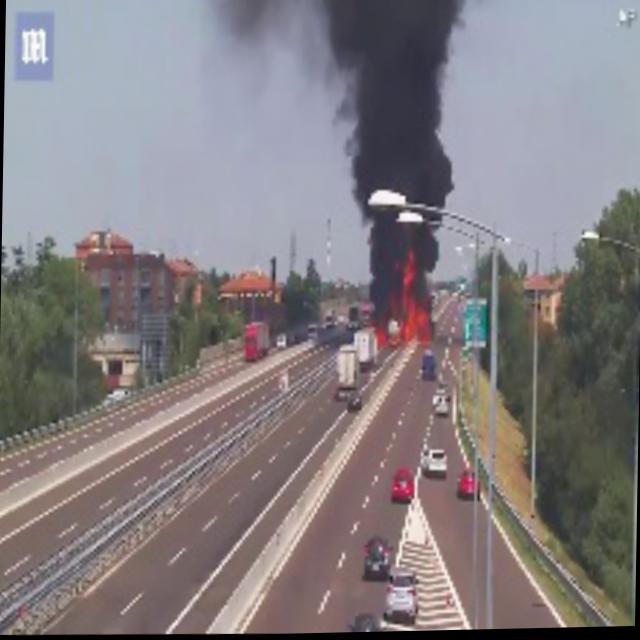fire: (402, 248, 415, 342), (411, 305, 429, 339)
smoke: (347, 0, 449, 201), (198, 0, 352, 126), (368, 213, 402, 323), (420, 225, 438, 288)
